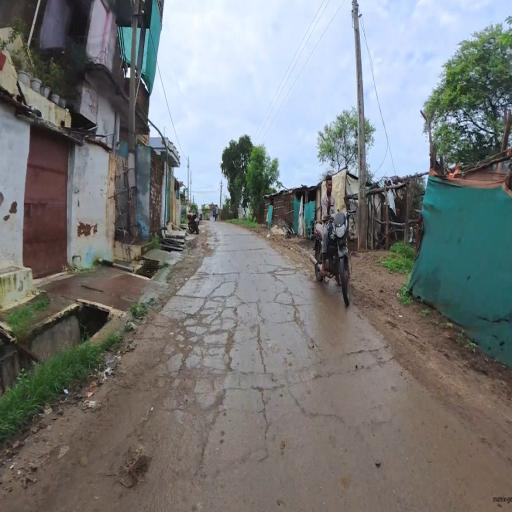alligator_crack: (156, 260, 256, 446), (268, 257, 311, 368)
